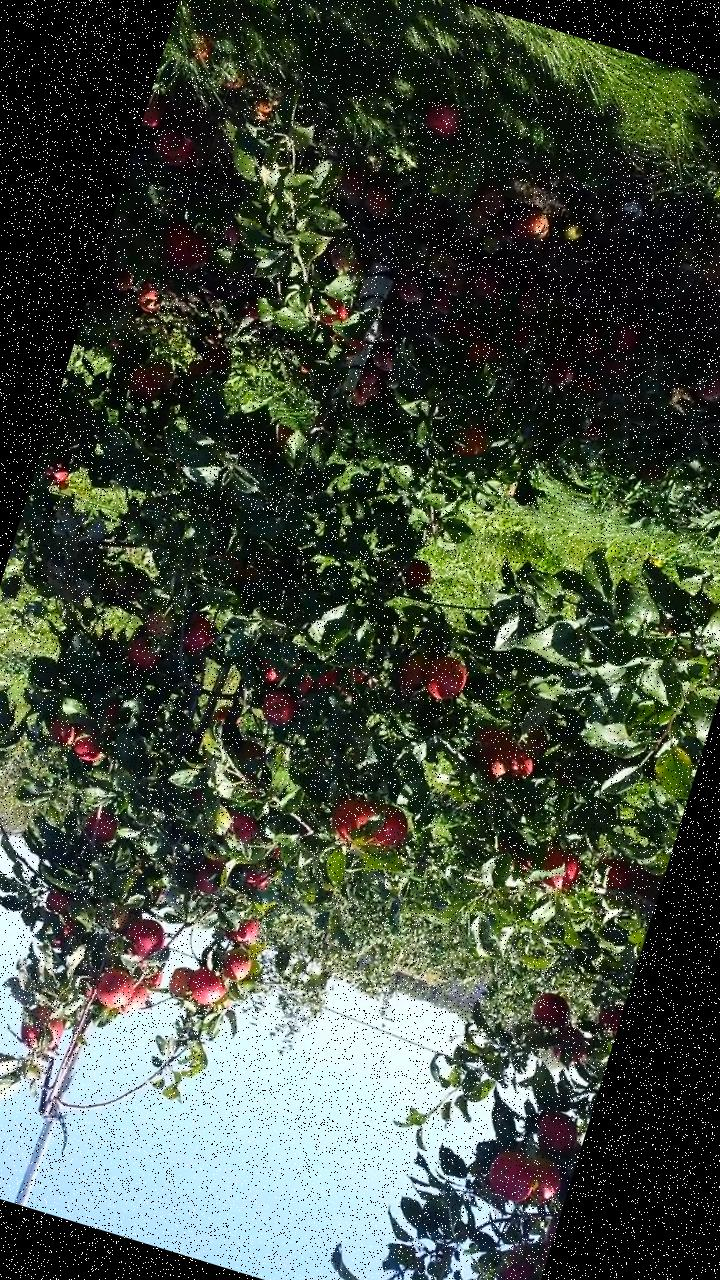Apple: (481, 1146, 541, 1210), (157, 221, 216, 279), (518, 1148, 570, 1212), (475, 739, 538, 790), (13, 1000, 69, 1057), (530, 1106, 586, 1162), (323, 792, 378, 848), (422, 650, 476, 706), (532, 843, 588, 896), (120, 913, 170, 967), (182, 966, 234, 1014), (590, 852, 644, 898), (368, 801, 415, 852), (544, 1020, 592, 1069), (92, 966, 139, 1014), (527, 988, 575, 1035), (256, 682, 302, 729), (180, 610, 224, 658), (216, 942, 260, 988), (79, 802, 123, 848), (127, 356, 173, 400), (112, 976, 153, 1024), (318, 661, 366, 702), (190, 852, 230, 899), (121, 633, 164, 676), (219, 910, 264, 951), (394, 651, 435, 696), (66, 726, 112, 766), (218, 806, 261, 848), (450, 424, 493, 466), (90, 898, 134, 938), (492, 836, 536, 874), (141, 603, 181, 644), (492, 1245, 539, 1279), (398, 554, 437, 592), (43, 715, 82, 751), (240, 857, 276, 893), (316, 296, 354, 330), (473, 724, 515, 754), (252, 656, 288, 690), (592, 1000, 624, 1036), (38, 461, 74, 493), (165, 964, 196, 1000), (138, 962, 166, 998), (227, 560, 262, 588), (234, 740, 266, 770), (44, 887, 74, 916), (270, 423, 297, 452), (292, 674, 318, 704), (98, 699, 121, 729), (50, 922, 72, 953), (184, 359, 210, 384), (210, 703, 234, 727), (84, 988, 98, 1002)
